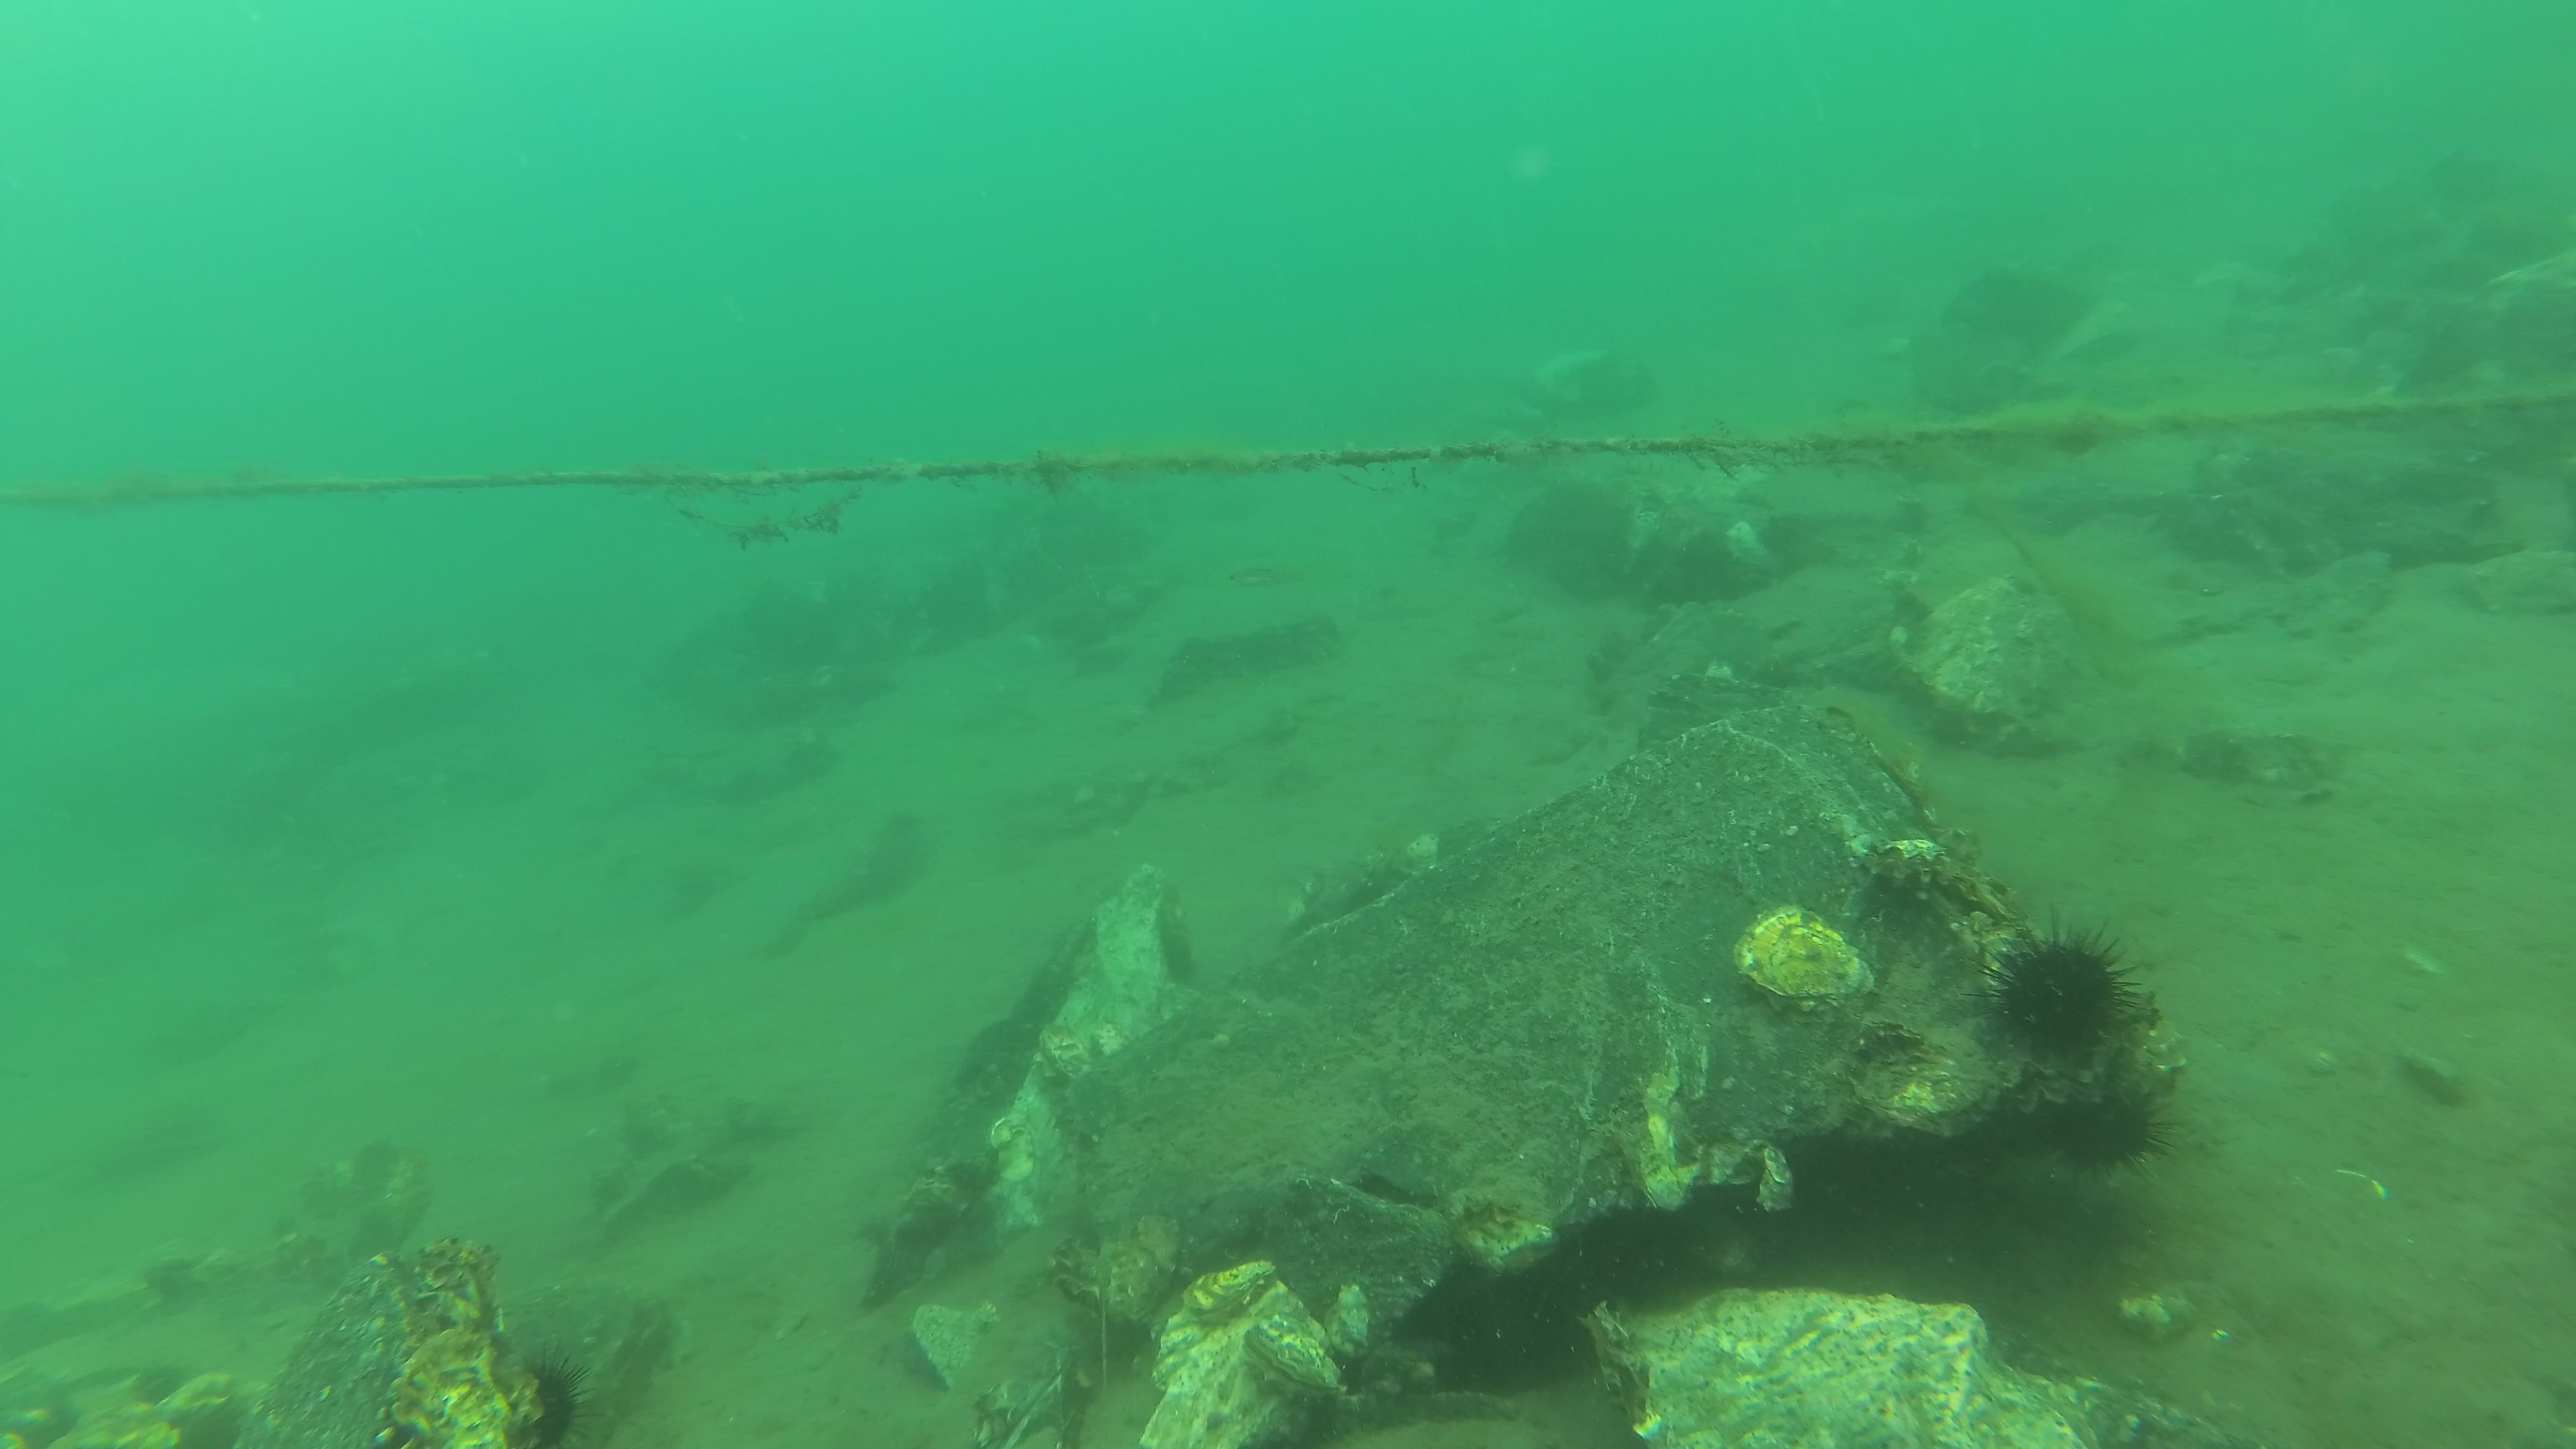echinus: (1978, 916, 2148, 1060), (2052, 1081, 2173, 1182), (524, 1346, 596, 1445)
